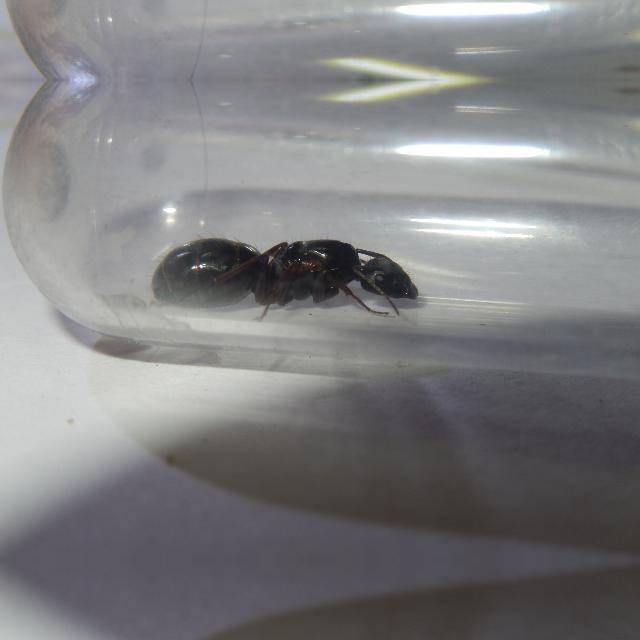Camponotus: (140, 218, 442, 328)
